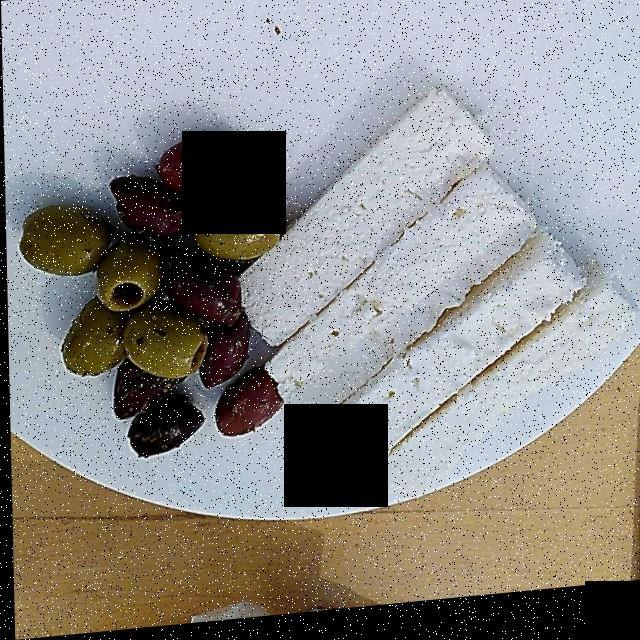black-olives: (97, 145, 269, 459)
cheese: (239, 105, 625, 488)
green-olives: (16, 195, 274, 374)
